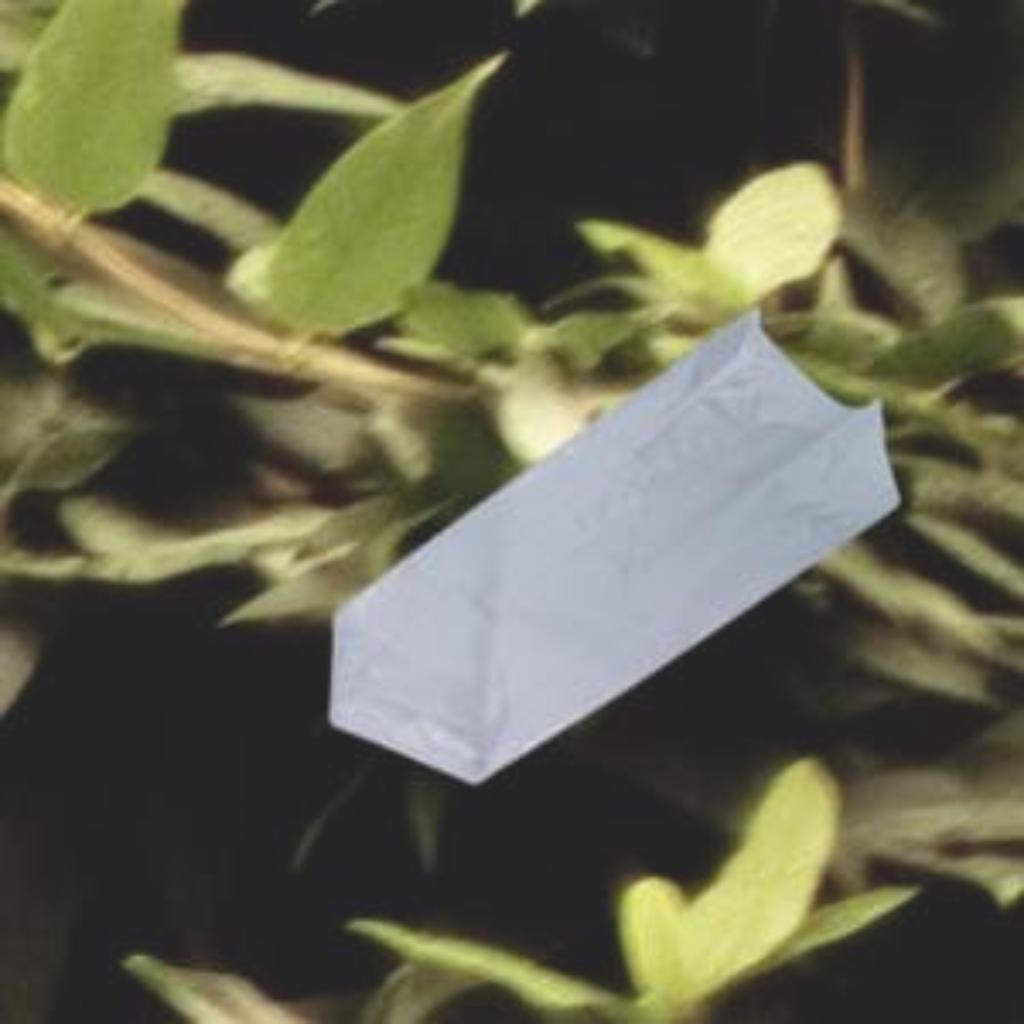garbage: (444, 217, 765, 916)
